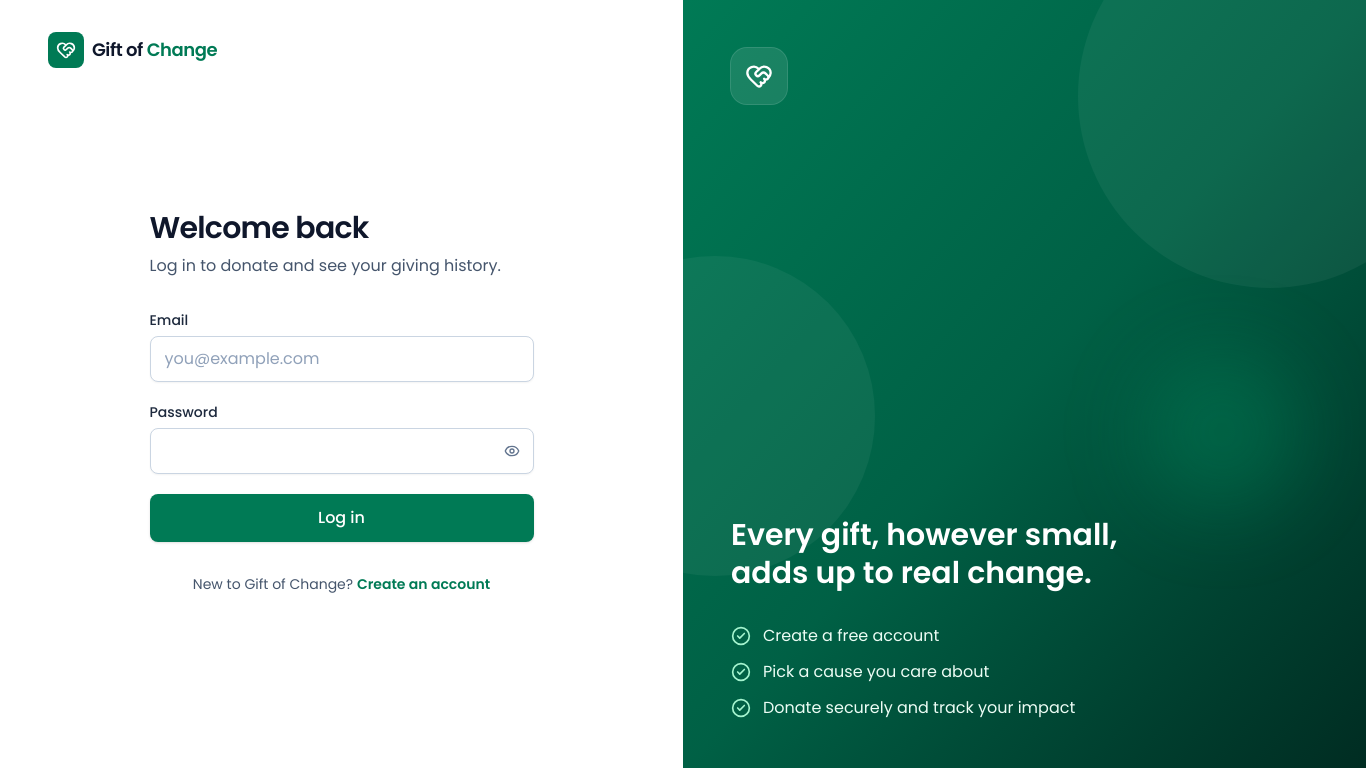
Test: LoginPage › shows the server's message when the credentials are wrong
This screenshot has width=1366, height=768.
Type "jane@example.com" into the field labelled "Email" at [342, 359], box [150, 336, 534, 382]
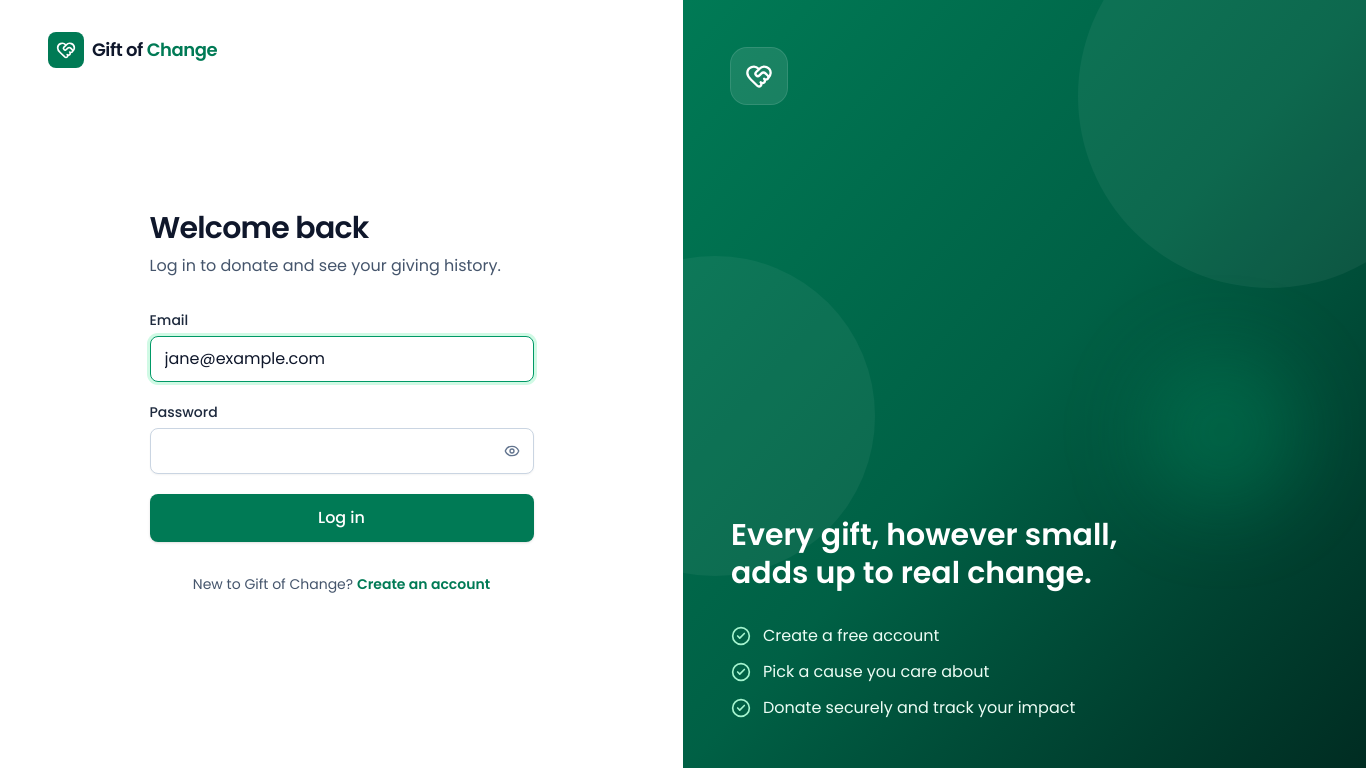
Type "wrong-password" into the password field labelled "Password" at [342, 451], box [150, 428, 534, 474]
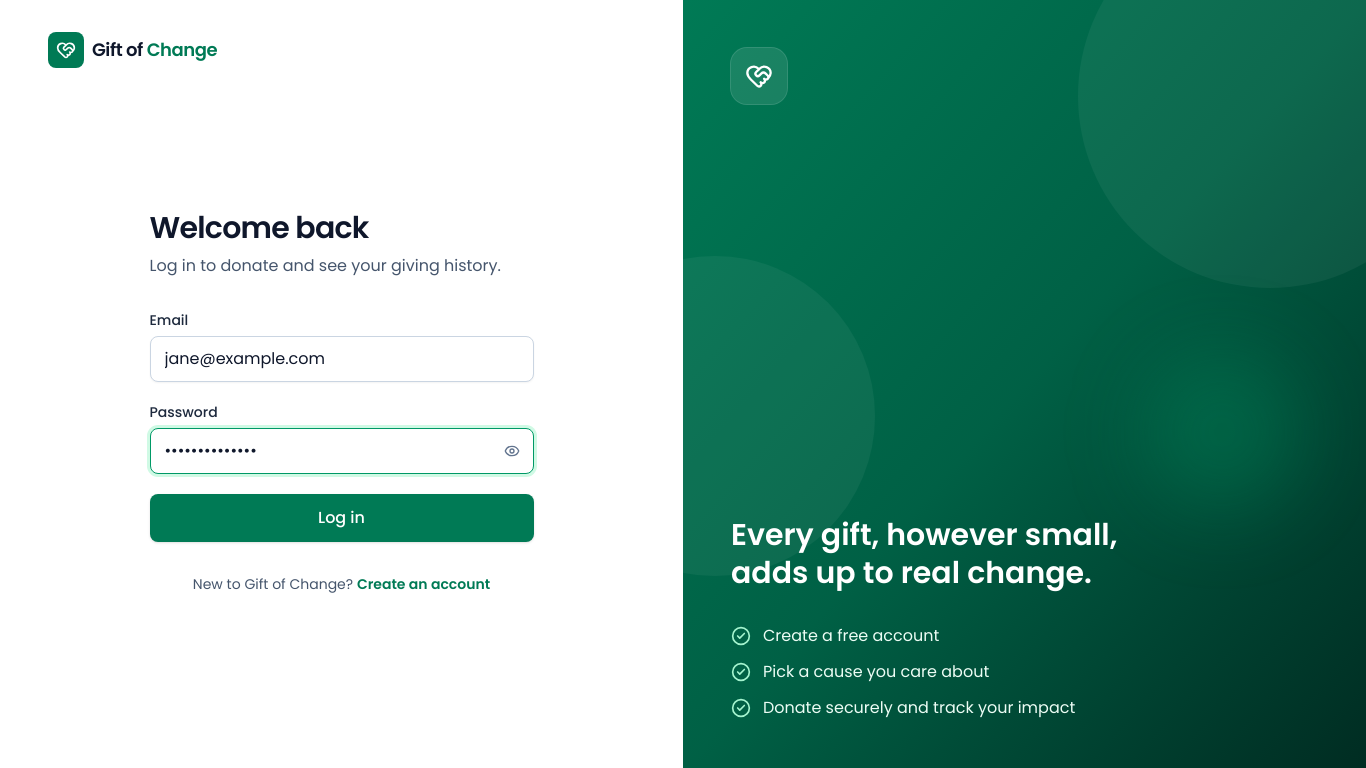
Click the button "Log in" at [342, 518], box [150, 494, 534, 542]
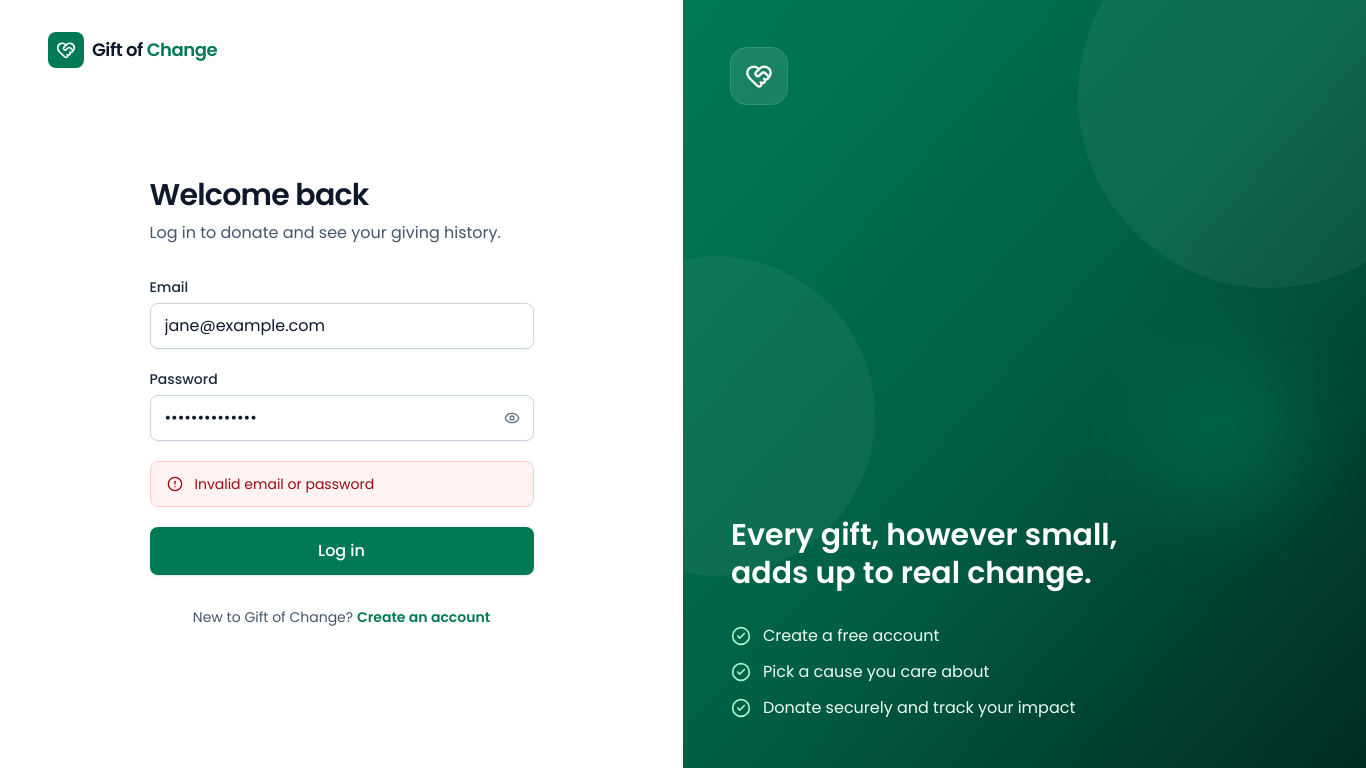
Check: the button "Log in" is enabled, box [150, 527, 534, 575]
Check: the message reads "Invalid email or password", box [194, 474, 374, 494]
